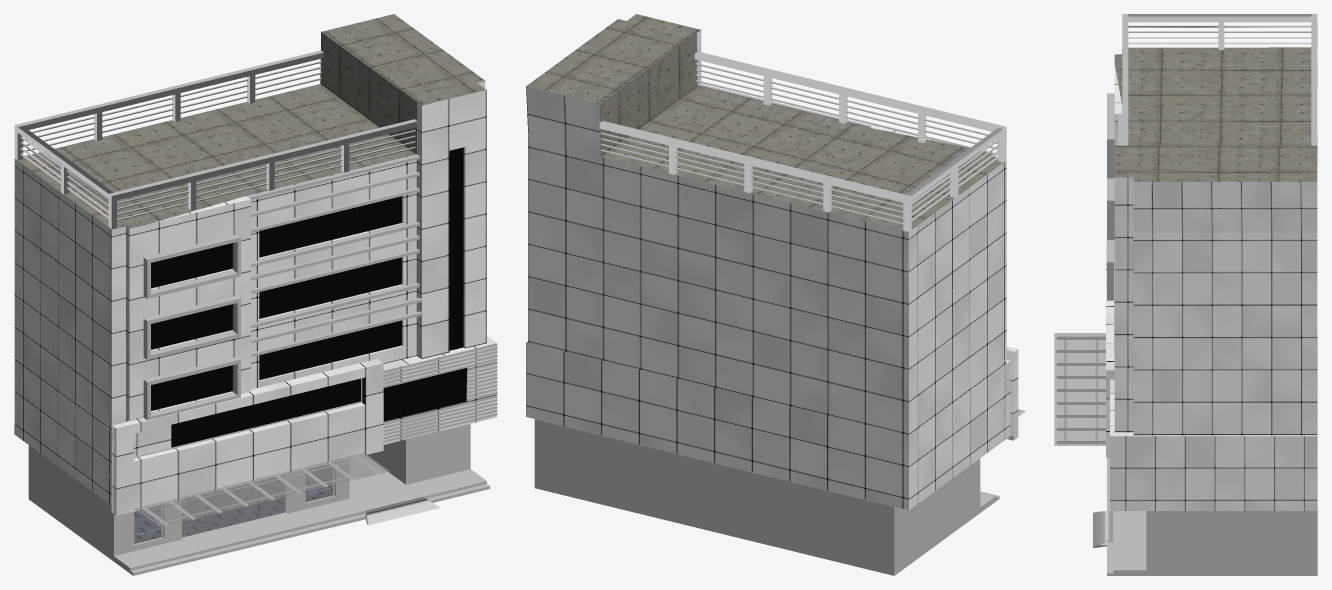
File: building1_lod1.FBX
3 views of the same model, side by side, from view 1: azimuth 30°, elevation 25°; view 2: azimuth 150°, elevation 25°; view 3: azimuth 270°, elevation 25° (orthographic).
Parts seen in each view (by area): view 1: office_exterior001, office_details001, office_top001, glasses005, office_limestone001, office_sreps001, glass002, office_floor001, door006, door008, door007, door005; view 2: office_exterior001, office_top001, office_limestone001, office_details001; view 3: office_exterior001, office_top001, office_limestone001, office_details001, glass002, office_sreps001.
Boxes of the visible parts, x1,y1,x2,y2 form: office_exterior001: [14, 81, 496, 515]; office_details001: [14, 50, 497, 544]; office_top001: [18, 14, 485, 229]; glasses005: [151, 147, 467, 447]; office_limestone001: [28, 424, 470, 561]; office_sreps001: [114, 469, 490, 575]; glass002: [134, 452, 389, 542]; office_floor001: [134, 474, 332, 542]; door006: [205, 488, 232, 531]; door008: [259, 475, 285, 518]; door007: [233, 482, 258, 524]; door005: [182, 495, 205, 537]; office_exterior001: [526, 30, 1018, 510]; office_top001: [526, 14, 1002, 230]; office_limestone001: [534, 419, 980, 575]; office_details001: [599, 51, 1006, 231]; office_exterior001: [1106, 65, 1317, 510]; office_top001: [1114, 47, 1317, 181]; office_limestone001: [1146, 332, 1317, 575]; office_details001: [1057, 14, 1317, 547]; glass002: [1054, 333, 1105, 445]; office_sreps001: [1107, 458, 1146, 575].
Size of the model in its own units: 2249 by 2224 by 1330.
